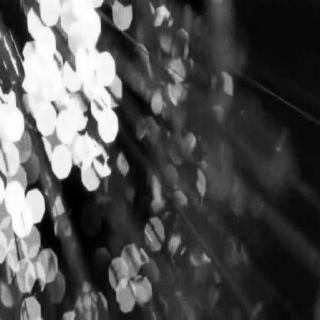other: (4, 6, 186, 306)
